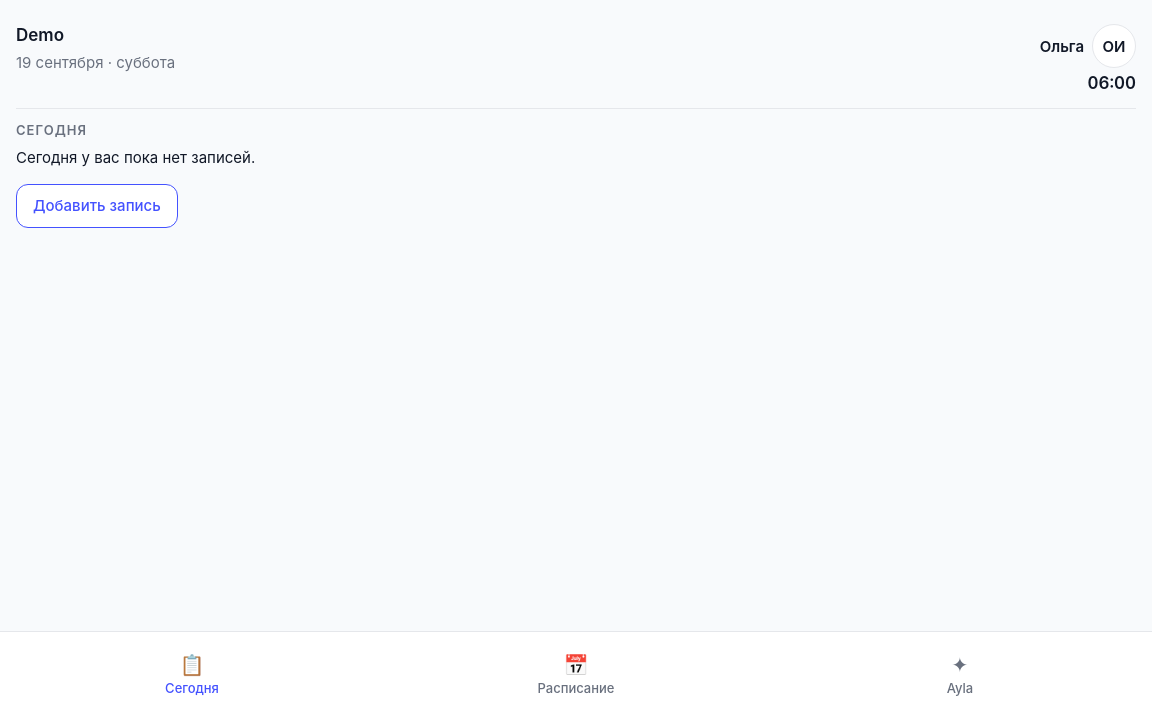
соло-панель — ровно три и ровно одна (DRF-2127) › тап по вкладке «Ayla» ведёт на /solo/ayla, панель остаётся одна
Expected: the navigation bar named "Основная навигация" is shown, [0,631,1151,719]
Click the link "✦ Ayla". click: coordinates (960, 674)
box: [947,653,973,696]
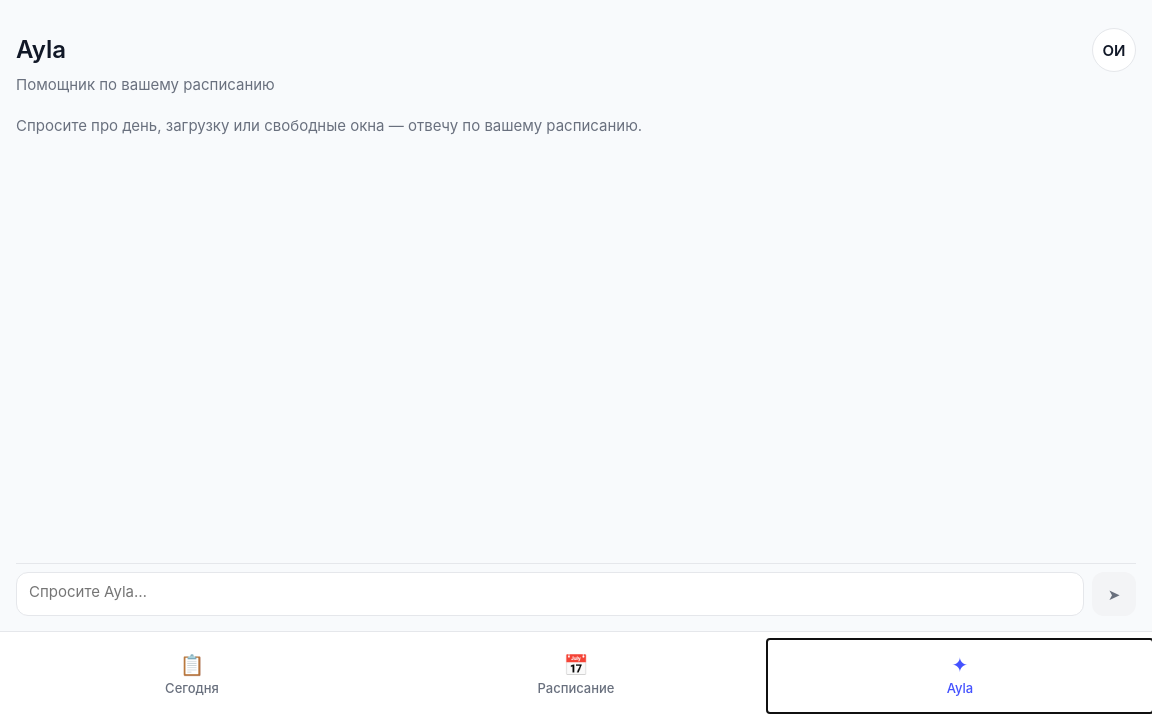
Expected: the number of navigation bars named "Основная навигация" is 1, [0,631,1151,719]
Expected: the heading "Ayla" is shown, [16,33,66,67]
